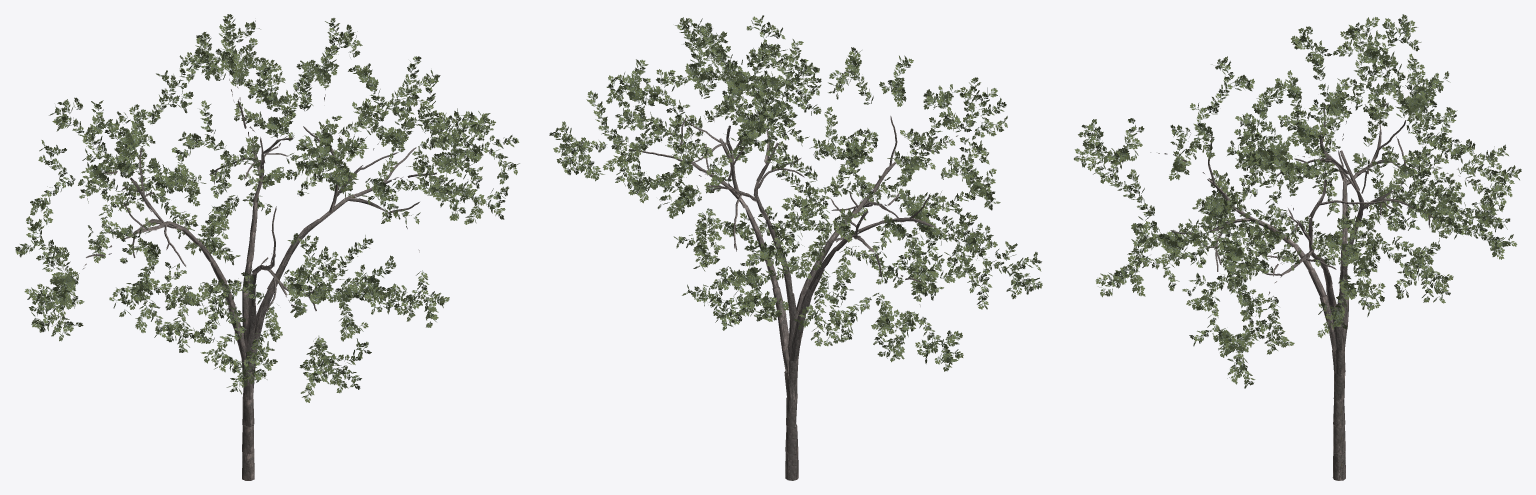
File: elm2.glb
The picture shows the model from 3 angles, left to right: view 1: azimuth 30°, elevation 25°; view 2: azimuth 150°, elevation 25°; view 3: azimuth 270°, elevation 25°; orthographic projection.
Parts seen in each view (by area): view 1: leaves, bark; view 2: leaves, bark; view 3: leaves, bark.
Boxes of the visible parts, x1=… form: leaves: x1=15, y1=14, x2=519, y2=402; bark: x1=73, y1=72, x2=444, y2=480; leaves: x1=549, y1=15, x2=1042, y2=371; bark: x1=629, y1=77, x2=960, y2=480; leaves: x1=1074, y1=14, x2=1521, y2=388; bark: x1=1106, y1=36, x2=1471, y2=480.
Bounding box in the file's own units: 33.91 × 31.34 × 28.33.
Materials: 2 (2 with a texture image).
